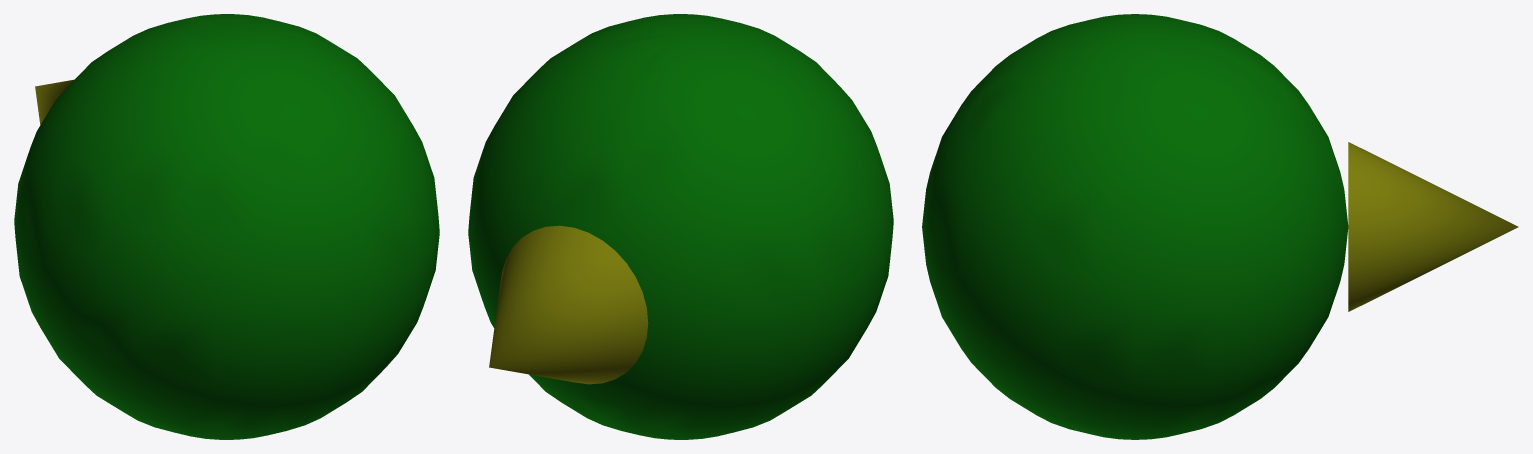
Rendered from playertest.obj.
3 views of the same model, side by side, from view 1: azimuth 30°, elevation 25°; view 2: azimuth 150°, elevation 25°; view 3: azimuth 270°, elevation 25° (orthographic).
Parts seen in each view (by area): view 1: Sphere, Cone; view 2: Sphere, Cone; view 3: Sphere, Cone.
Part boxes in pixels (x1,y1,x2,y2): Sphere: (14, 14, 439, 439); Cone: (35, 79, 73, 124); Sphere: (468, 14, 893, 439); Cone: (489, 225, 648, 384); Sphere: (922, 14, 1348, 439); Cone: (1348, 142, 1518, 311).
Size of the model in its own units: 1 by 1 by 1.4.
